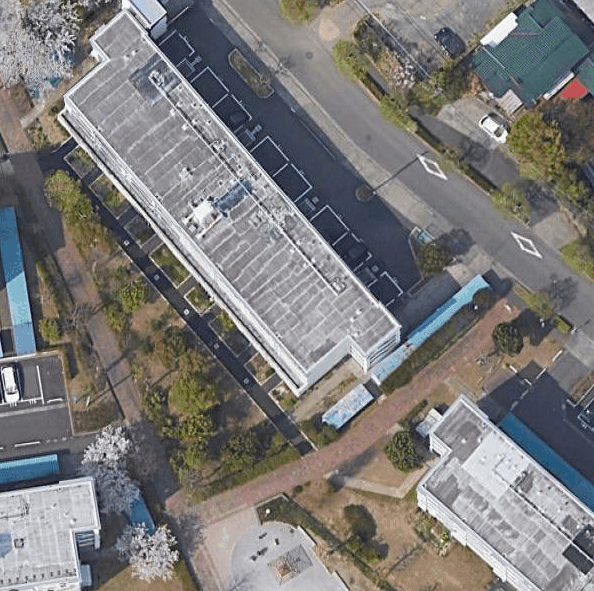flatroof: (47, 26, 405, 406)
